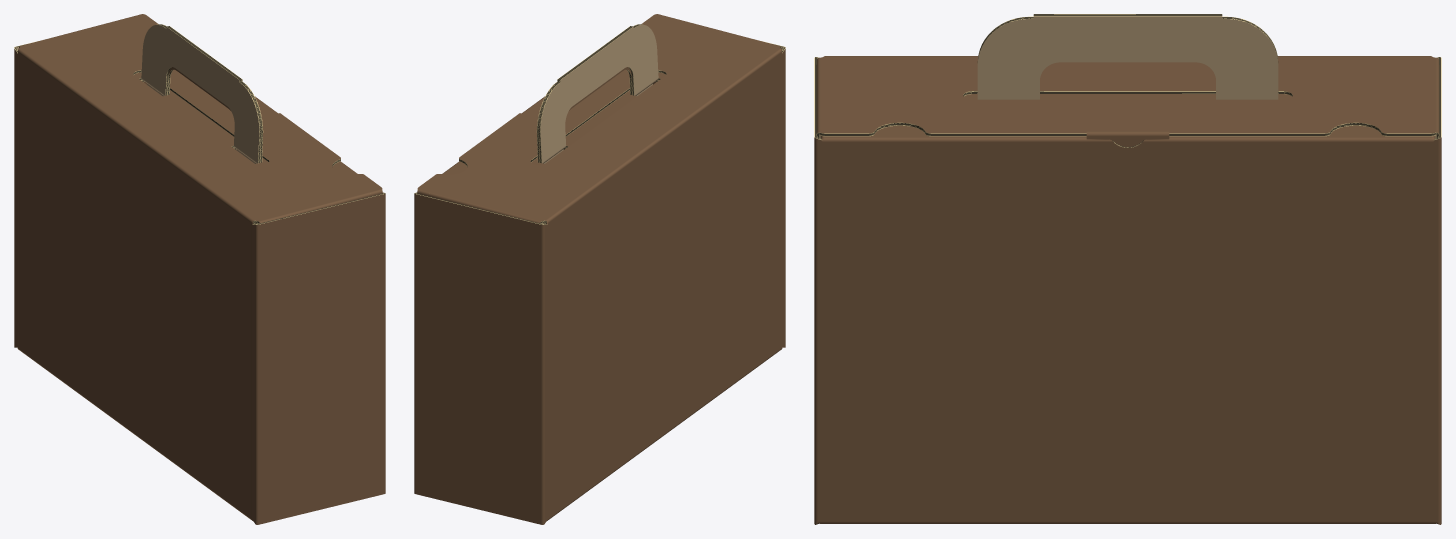
The model's file is TroquelMaleta.gltf.
3 renders of one model, left to right at view 1: azimuth 30°, elevation 25°; view 2: azimuth 150°, elevation 25°; view 3: azimuth 270°, elevation 25°, orthographic. The views are drawn at different scales.
Visible parts, largest first — view 1: TQ_ARD-node; view 2: TQ_ARD-node; view 3: TQ_ARD-node.
Part boxes in pixels (box(x1,y1,x2,y2)): TQ_ARD-node: box(14, 14, 385, 524); TQ_ARD-node: box(414, 14, 785, 524); TQ_ARD-node: box(814, 14, 1441, 524).
Size of what is drawn, in the model's own units: 0.0936 by 0.2515 by 0.3026.
3 materials, 1 textured.
